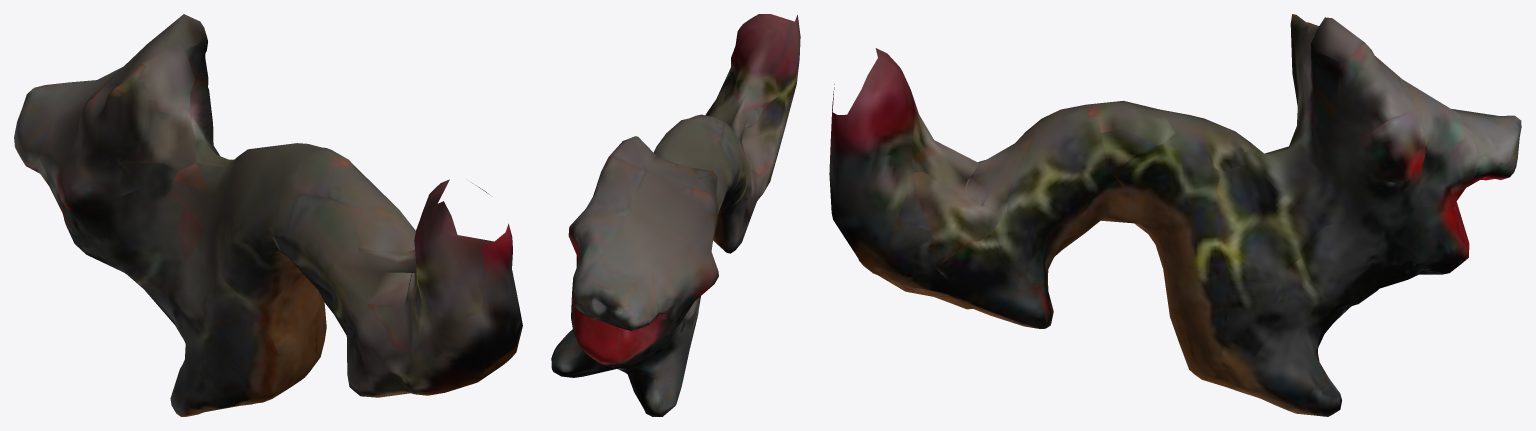
File: hall.glb
The picture shows the model from 3 angles, left to right: view 1: azimuth 30°, elevation 25°; view 2: azimuth 150°, elevation 25°; view 3: azimuth 270°, elevation 25°; orthographic projection. The views are drawn at different scales.
Bounding box in the file's own units: 0.3222 × 0.5035 × 0.8134.
Materials: 1 (1 with a texture image).
